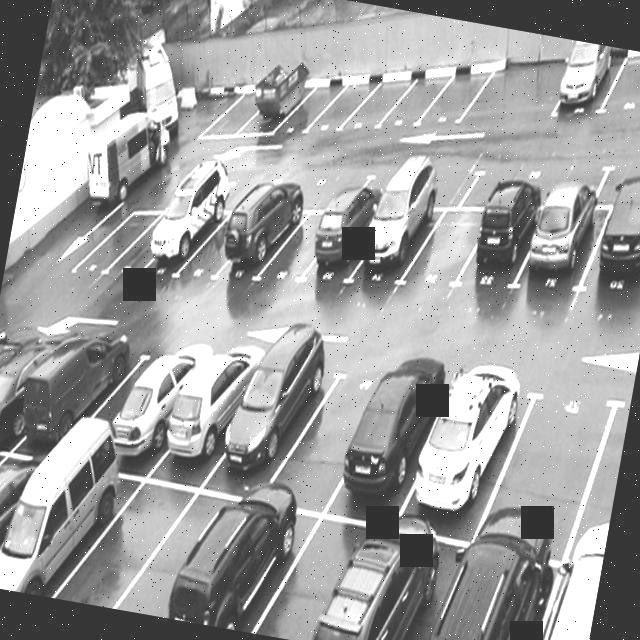car: (1, 429, 118, 604), (339, 348, 442, 524), (422, 360, 514, 532), (225, 338, 322, 492), (198, 489, 296, 636), (264, 507, 364, 640), (30, 319, 124, 454), (112, 338, 198, 480), (174, 339, 258, 484), (354, 526, 451, 640), (439, 543, 548, 640), (522, 203, 602, 302), (148, 190, 224, 289), (0, 450, 52, 594), (0, 325, 60, 449), (472, 182, 540, 289), (363, 195, 433, 298), (314, 190, 379, 294), (230, 192, 296, 290), (588, 197, 640, 304), (555, 43, 616, 132), (535, 565, 599, 640)
free: (276, 341, 374, 520), (72, 460, 180, 616), (138, 475, 242, 627), (502, 381, 594, 551), (476, 132, 604, 211), (78, 333, 162, 448), (106, 184, 188, 296), (79, 190, 159, 290), (158, 152, 262, 218), (362, 152, 469, 212), (590, 393, 632, 545), (411, 199, 476, 296), (270, 201, 330, 298), (190, 198, 254, 288), (273, 156, 366, 208), (391, 58, 448, 136), (283, 70, 340, 144), (424, 62, 484, 132), (314, 74, 368, 140), (354, 67, 407, 130), (601, 47, 640, 131), (607, 135, 640, 200)
